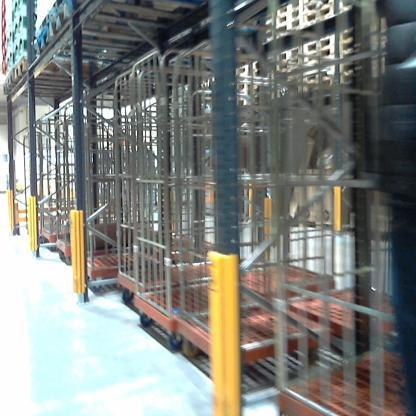pallets: (216, 0, 382, 115), (0, 0, 119, 96)
